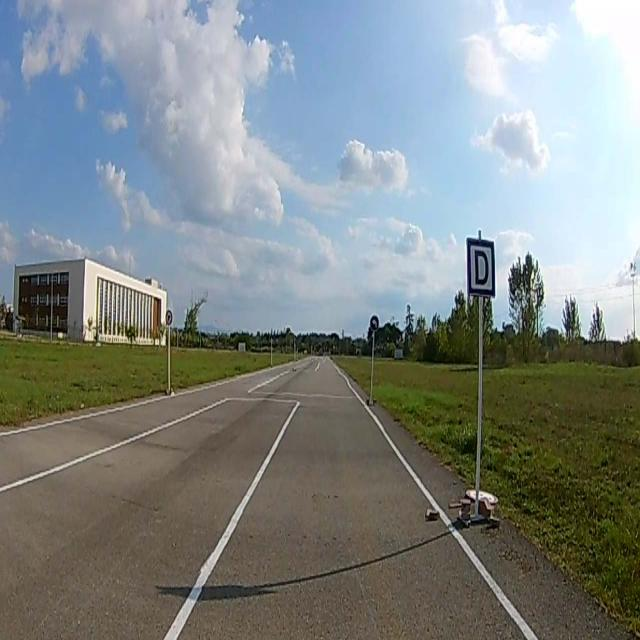durak: (466, 237, 496, 296)
